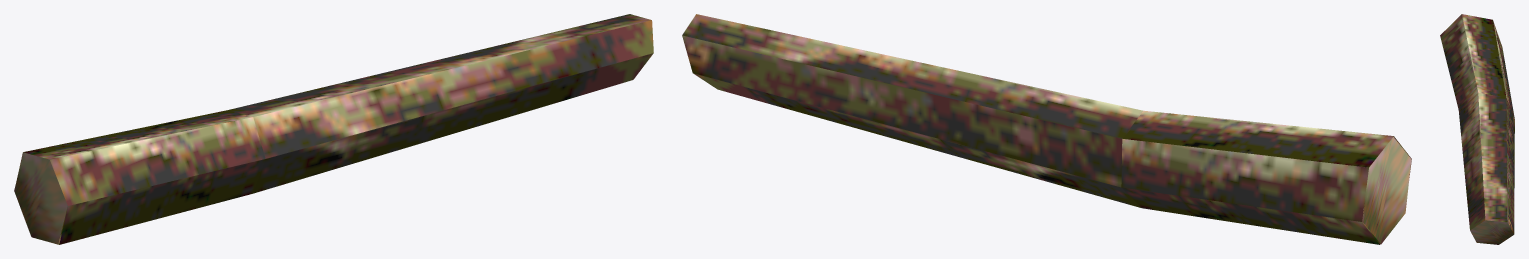
Rendered from Log_2.fbx.
3 views of the same model, side by side, from view 1: azimuth 30°, elevation 25°; view 2: azimuth 150°, elevation 25°; view 3: azimuth 270°, elevation 25° (orthographic). The views are drawn at different scales.
Visible parts, largest first — view 1: Fence.003; view 2: Fence.003; view 3: Fence.003.
Part boxes in pixels (<box>): Fence.003: <box>14,14,653,244</box>; Fence.003: <box>682,14,1411,244</box>; Fence.003: <box>1440,14,1514,244</box>.
Bounding box in the file's own units: 135 × 19.93 × 22.32.
1 material, 1 textured.
